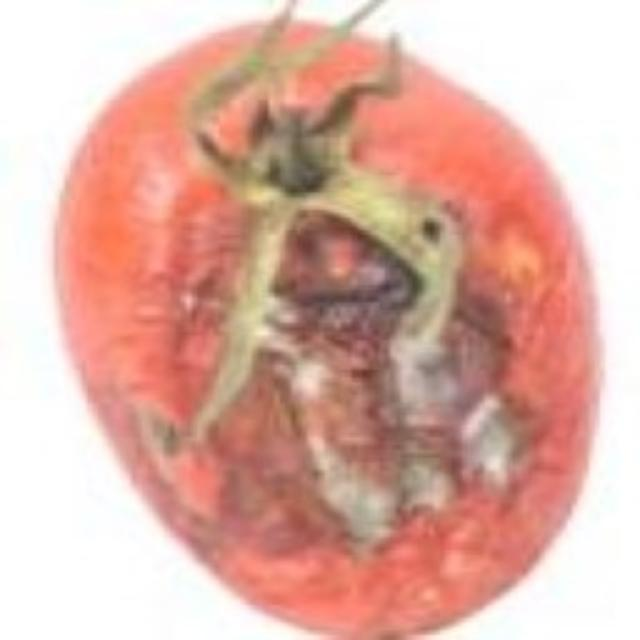defect: (42, 8, 619, 640)
